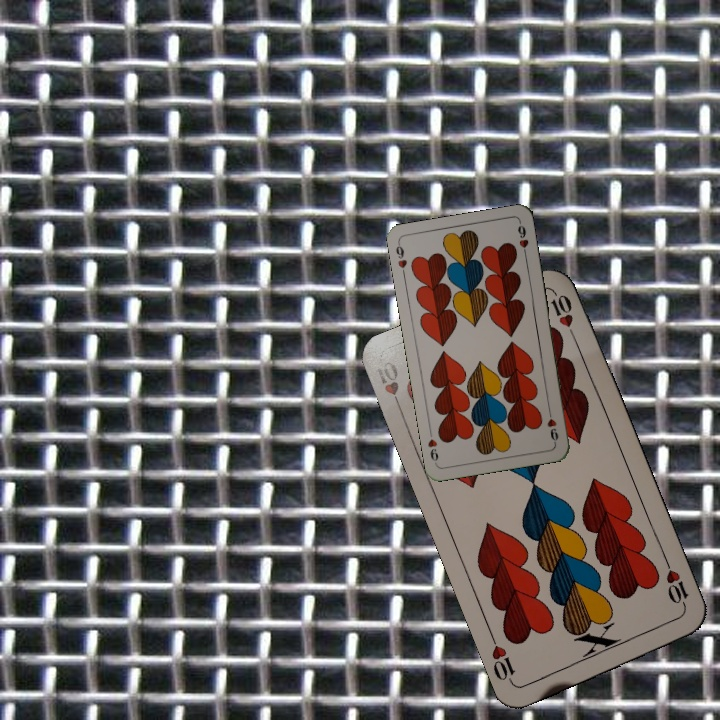H10: (371, 357, 406, 416), (661, 557, 691, 614)
H9: (392, 239, 410, 280), (543, 405, 561, 445)
